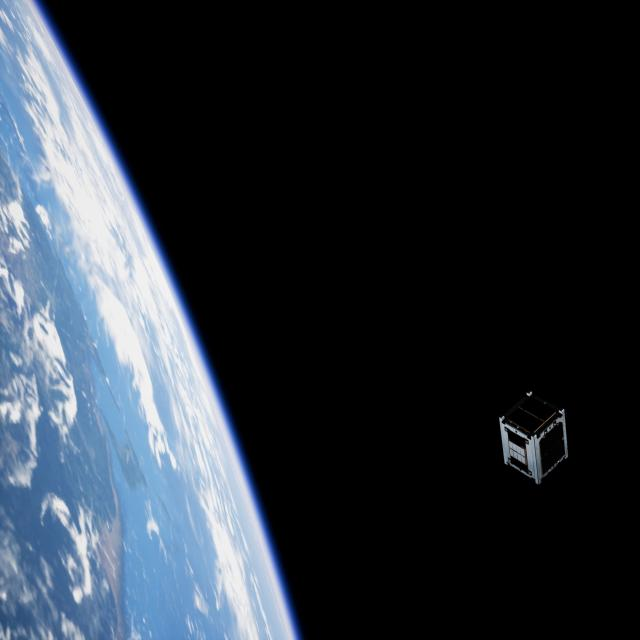satellite: (490, 389, 580, 489)
